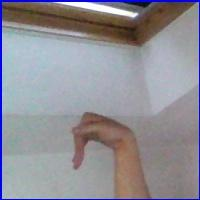del: (66, 108, 139, 174)
